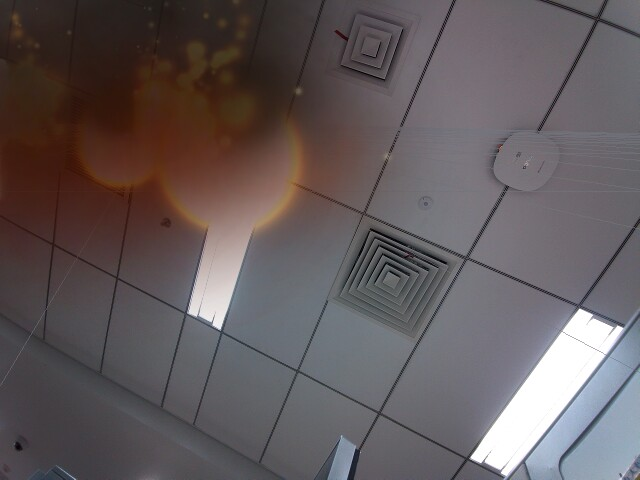fire: (168, 99, 303, 233), (68, 103, 170, 190)
